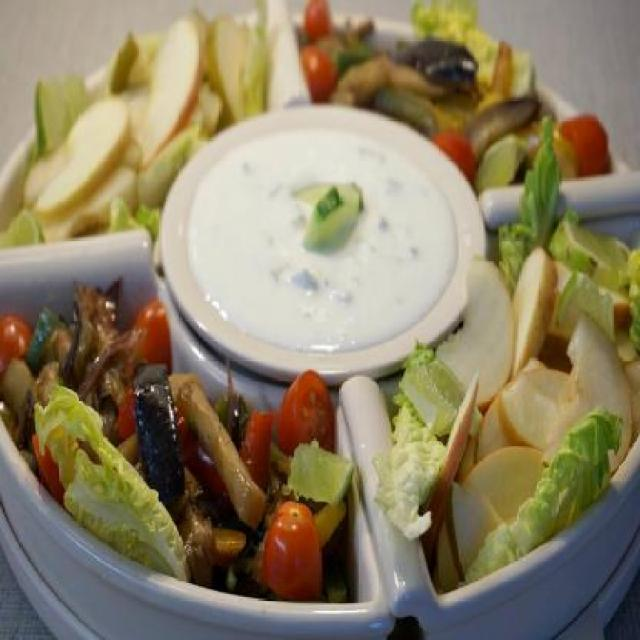eggplant: (398, 28, 534, 144), (56, 275, 122, 410), (132, 353, 176, 502)
hummus: (186, 116, 454, 347)
